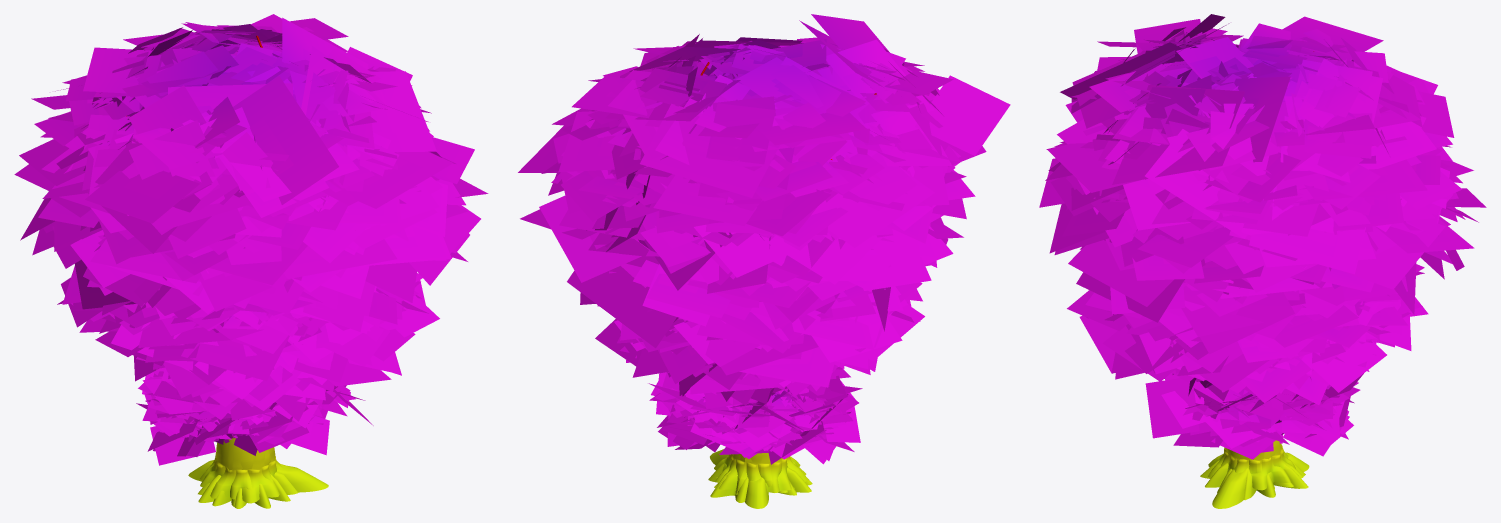
The model's file is trees.glb.
The picture shows the model from 3 angles, left to right: view 1: azimuth 30°, elevation 25°; view 2: azimuth 150°, elevation 25°; view 3: azimuth 270°, elevation 25°; orthographic projection. The views are drawn at different scales.
Parts seen in each view (by area): view 1: emergent_0_far, emergent_2_far, emergent_0_near, jungle_2_far, emergent_1_far, jungle_0_far, jungle_1_far, canopy_0_far, acacia_1_far, canopy_2_far, acacia_0_far, baobab_0_near (+10 smaller); view 2: emergent_0_far, emergent_2_far, emergent_0_near, jungle_0_far, emergent_1_far, acacia_1_far, acacia_2_far, emergent_2_near, acacia_3_far, canopy_2_far, jungle_1_far, emergent_1_near (+9 smaller); view 3: emergent_0_far, emergent_2_far, emergent_0_near, jungle_2_far, emergent_1_far, acacia_0_far, jungle_1_far, emergent_2_near, jungle_0_far, acacia_2_far, acacia_3_far, emergent_1_near (+9 smaller).
Part boxes in pixels (x1=…): emergent_0_far: x1=19, y1=14, x2=453, y2=289; emergent_2_far: x1=14, y1=106, x2=488, y2=309; emergent_0_near: x1=58, y1=24, x2=407, y2=508; jungle_2_far: x1=99, y1=273, x2=439, y2=406; emergent_1_far: x1=20, y1=46, x2=455, y2=313; jungle_0_far: x1=57, y1=266, x2=397, y2=384; jungle_1_far: x1=138, y1=281, x2=420, y2=362; canopy_0_far: x1=153, y1=321, x2=301, y2=420; acacia_1_far: x1=136, y1=376, x2=313, y2=465; canopy_2_far: x1=102, y1=304, x2=326, y2=421; acacia_0_far: x1=153, y1=376, x2=373, y2=455; baobab_0_near: x1=200, y1=438, x2=279, y2=503; emergent_0_far: x1=558, y1=14, x2=1010, y2=265; emergent_2_far: x1=518, y1=110, x2=966, y2=348; emergent_0_near: x1=588, y1=42, x2=974, y2=502; jungle_0_far: x1=620, y1=282, x2=924, y2=387; emergent_1_far: x1=552, y1=40, x2=960, y2=322; acacia_1_far: x1=658, y1=381, x2=860, y2=464; acacia_2_far: x1=649, y1=372, x2=858, y2=459; emergent_2_near: x1=556, y1=128, x2=943, y2=495; acacia_3_far: x1=648, y1=367, x2=862, y2=444; canopy_2_far: x1=641, y1=286, x2=908, y2=398; jungle_1_far: x1=696, y1=289, x2=922, y2=348; emergent_1_near: x1=618, y1=119, x2=907, y2=508; emergent_0_far: x1=1047, y1=14, x2=1454, y2=249; emergent_2_far: x1=1039, y1=134, x2=1486, y2=322; emergent_0_near: x1=1080, y1=28, x2=1426, y2=508; jungle_2_far: x1=1067, y1=290, x2=1410, y2=403; emergent_1_far: x1=1045, y1=77, x2=1434, y2=300; acacia_0_far: x1=1145, y1=378, x2=1358, y2=459; jungle_1_far: x1=1121, y1=283, x2=1370, y2=373; emergent_2_near: x1=1067, y1=155, x2=1457, y2=497; jungle_0_far: x1=1085, y1=264, x2=1424, y2=373; acacia_2_far: x1=1164, y1=378, x2=1360, y2=456; acacia_3_far: x1=1165, y1=373, x2=1363, y2=435; emergent_1_near: x1=1098, y1=129, x2=1309, y2=500.
Bounding box in the file's own units: 25.64 × 27.62 × 25.95.
